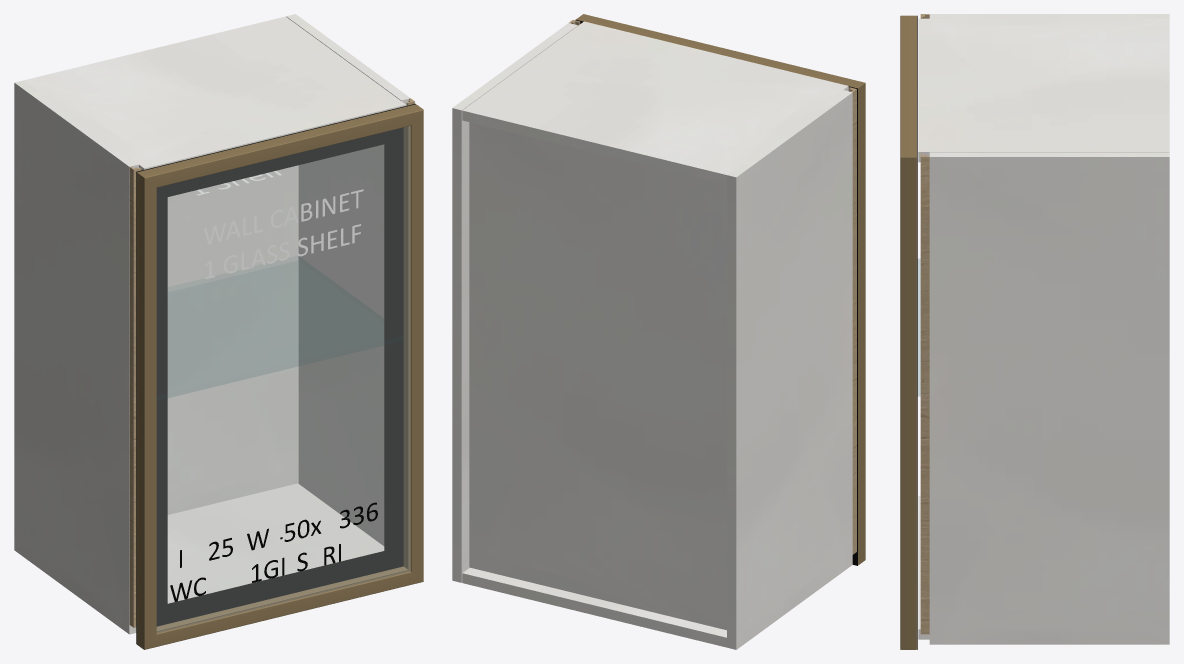
File: WC-SH-NHX-GL-1SG-RHS-XXX-450-725-336-15.glb
3 views of the same model, side by side, from view 1: azimuth 30°, elevation 25°; view 2: azimuth 150°, elevation 25°; view 3: azimuth 270°, elevation 25° (orthographic). The views are drawn at different scales.
Parts seen in each view (by area): view 1: Object_node_4, TP_node_0, TP_node_2, TP_node_1, TP, Neon 22 Profile ALU PROF NEON 20 L21XH22.5MM 3MTR S2/405 SEC (×4), Object_node_6, TP_node, Object_node_8, 2D text_node, 2D text_node_0, 2D text; view 2: TP_node_2, TP_node_0, TP, TP_node_1, Neon 22 Profile ALU PROF NEON 20 L21XH22.5MM 3MTR S2/405 SEC (×2), TP_node, Object_node_8; view 3: TP_node_1, TP, Neon 22 Profile ALU PROF NEON 20 L21XH22.5MM 3MTR S2/405 SEC (×2), Object_node_16, TP_node_0, Object_node_6, TP_node.
Boxes of the visible parts, box(x1,y1,x2,y2) form: Object_node_4: box(157, 126, 410, 632); TP_node_0: box(14, 80, 138, 634); TP_node_2: box(167, 165, 298, 514); TP_node_1: box(286, 14, 410, 545); TP: box(24, 16, 406, 170); Neon 22 Profile ALU PROF NEON 20 L21XH22.5MM 3MTR S2/405 SEC (×4): box(137, 104, 423, 649); Object_node_6: box(136, 103, 415, 644); TP_node: box(167, 483, 384, 603); Object_node_8: box(129, 166, 141, 627); 2D text_node: box(204, 189, 363, 279); 2D text_node_0: box(180, 502, 377, 567); 2D text: box(170, 544, 340, 601); TP_node_2: box(469, 122, 726, 630); TP_node_0: box(727, 90, 852, 649); TP: box(462, 21, 848, 184); TP_node_1: box(452, 23, 577, 582); Neon 22 Profile ALU PROF NEON 20 L21XH22.5MM 3MTR S2/405 SEC (×2): box(576, 14, 865, 565); TP_node: box(462, 567, 726, 647); Object_node_8: box(848, 87, 856, 554); TP_node_1: box(929, 152, 1169, 644); TP: box(918, 18, 1169, 162); Neon 22 Profile ALU PROF NEON 20 L21XH22.5MM 3MTR S2/405 SEC (×2): box(900, 15, 916, 649); Object_node_16: box(920, 153, 929, 634); TP_node_0: box(929, 14, 1169, 18); Object_node_6: box(917, 15, 917, 649); TP_node: box(918, 496, 929, 639).
Size of what is drawn, in the model's own units: 0.45 by 0.7235 by 0.366.
Materials: 8 (2 with a texture image).
